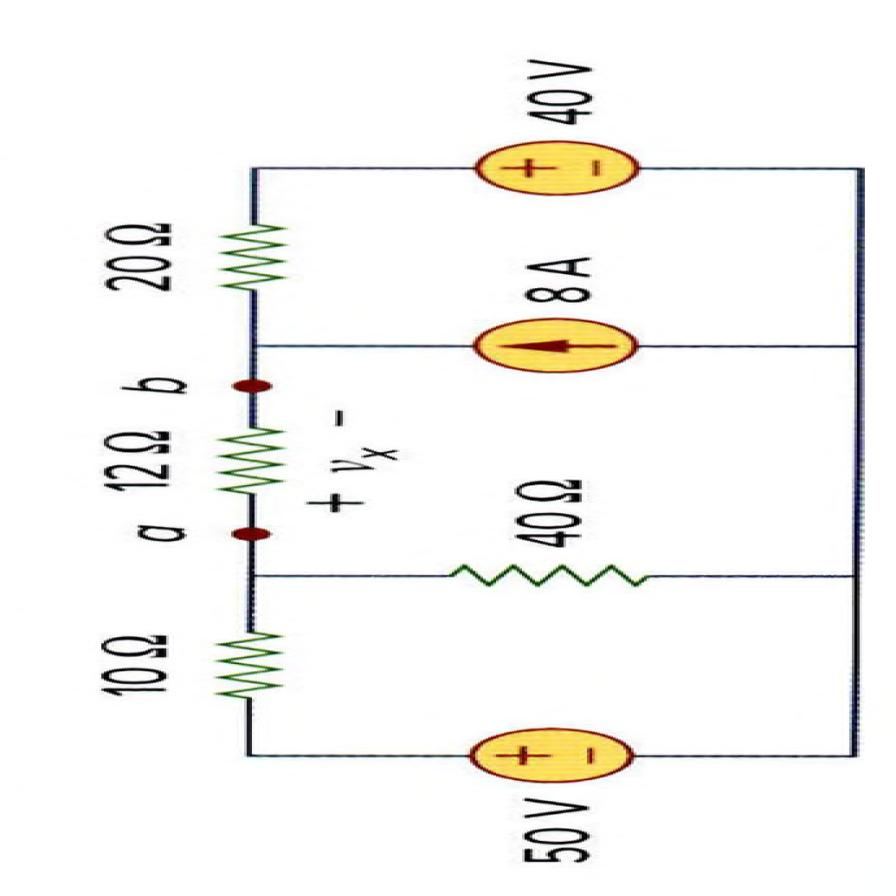I4: (464, 312, 646, 378)
V4: (449, 723, 648, 789), (466, 137, 654, 198)
